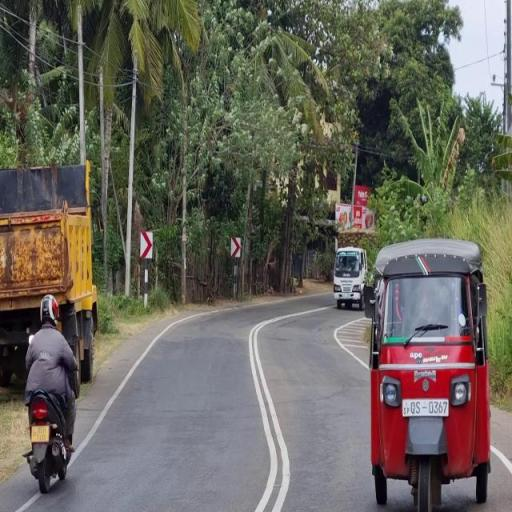double_white_line: (246, 316, 292, 510), (491, 444, 511, 475)
